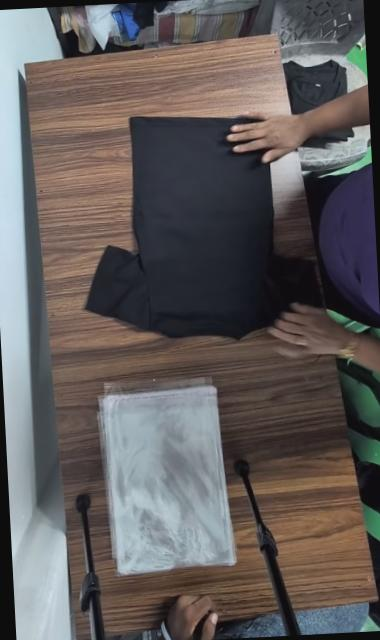new-garment: (87, 116, 287, 338)
